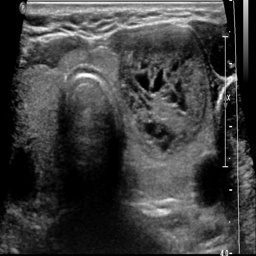mass: (121, 28, 209, 154)
